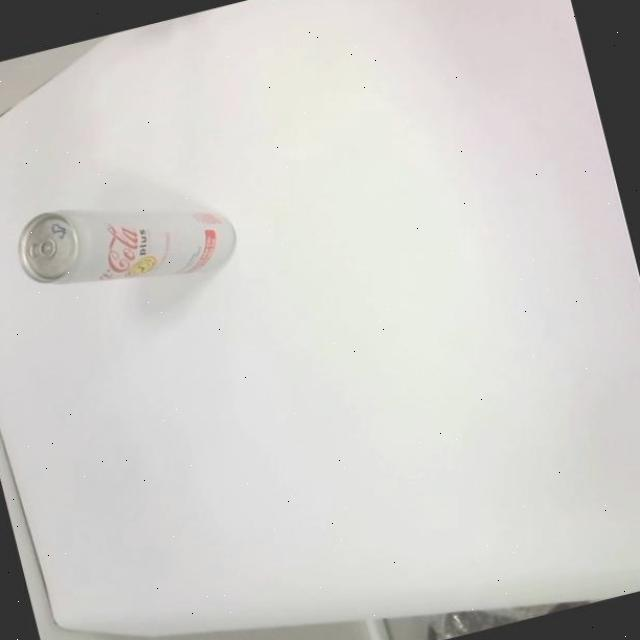debris: (7, 166, 243, 312)
